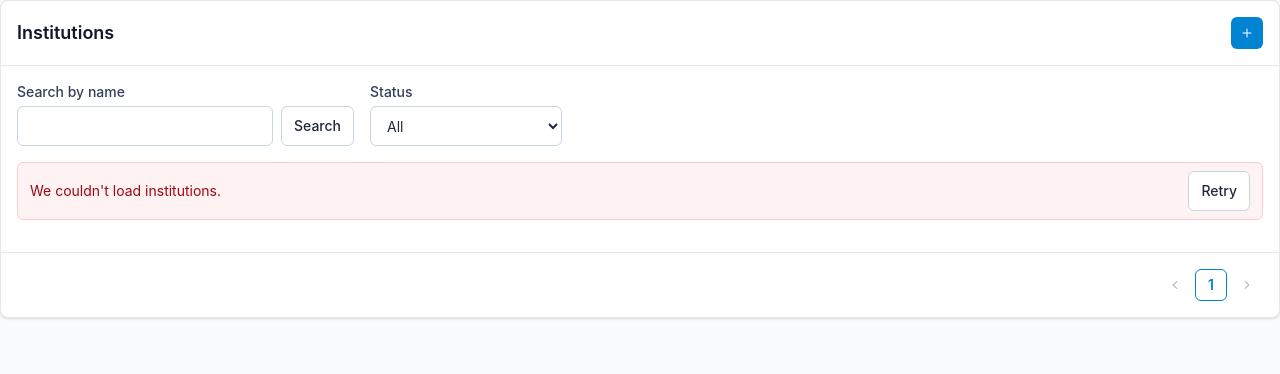
Test: InstitutionsListPage › shows a load error inline and retries on demand
The width and height of the screenshot is (1280, 374).
expect the message shows "We couldn't load institutions.": met, box 30,182 -> 221,199
Click the button "Retry". click: (1219, 191)
box: 1188,171 -> 1250,211
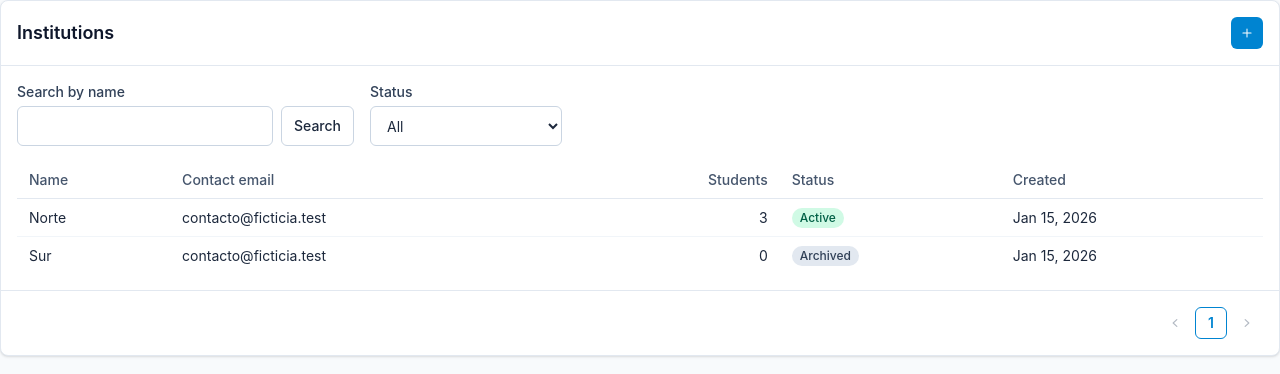
expect the table is shown: met, box 17,162 -> 1263,274
expect the message "We couldn't load institutions. Retry" is gone: met
